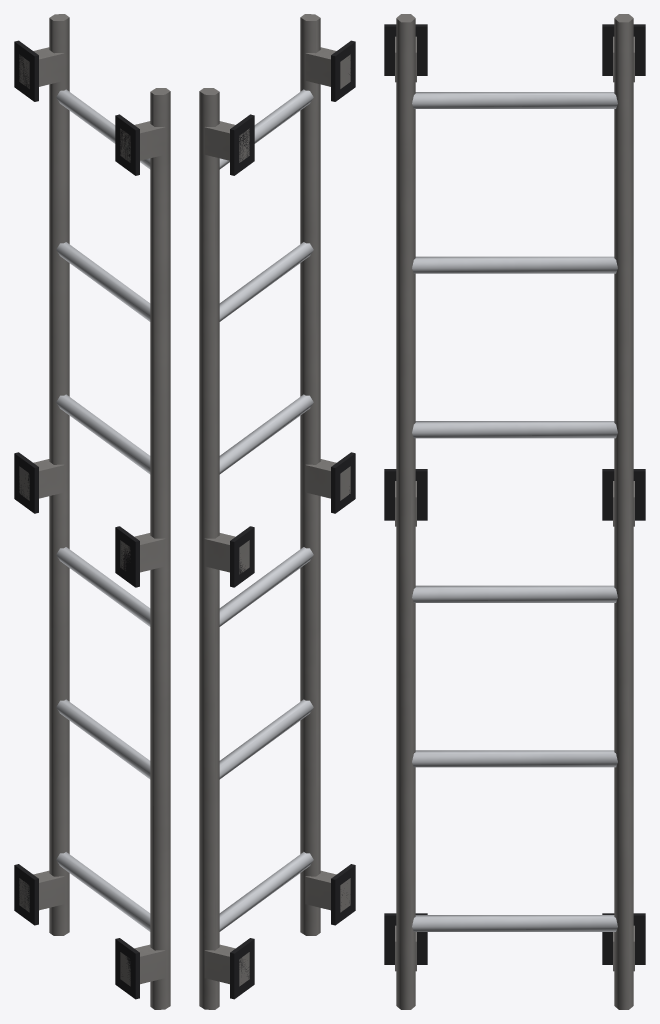
The model's file is struct03_ladder_handrail_ladder_2.glb.
3 renders of one model, left to right at view 1: azimuth 30°, elevation 25°; view 2: azimuth 150°, elevation 25°; view 3: azimuth 270°, elevation 25°, orthographic. The views are drawn at different scales.
Visible parts, largest first — view 1: ladder_stringers, ladder_rungs, standoffs, mount_pads; view 2: ladder_stringers, ladder_rungs, standoffs, mount_pads; view 3: ladder_stringers, ladder_rungs, mount_pads, standoffs.
Part boxes in pixels (x1=…): ladder_stringers: x1=49, y1=14, x2=170, y2=1009; ladder_rungs: x1=56, y1=89, x2=150, y2=931; standoffs: x1=19, y1=47, x2=165, y2=986; mount_pads: x1=14, y1=40, x2=139, y2=999; ladder_stringers: x1=199, y1=14, x2=320, y2=1009; ladder_rungs: x1=219, y1=89, x2=313, y2=931; standoffs: x1=204, y1=47, x2=350, y2=986; mount_pads: x1=230, y1=40, x2=355, y2=999; ladder_stringers: x1=396, y1=14, x2=633, y2=1009; ladder_rungs: x1=412, y1=92, x2=617, y2=931; mount_pads: x1=384, y1=24, x2=645, y2=964; standoffs: x1=395, y1=36, x2=634, y2=971.
Bounding box in the file's own units: 0.098 × 2 × 0.48.
3 materials, 2 textured.
